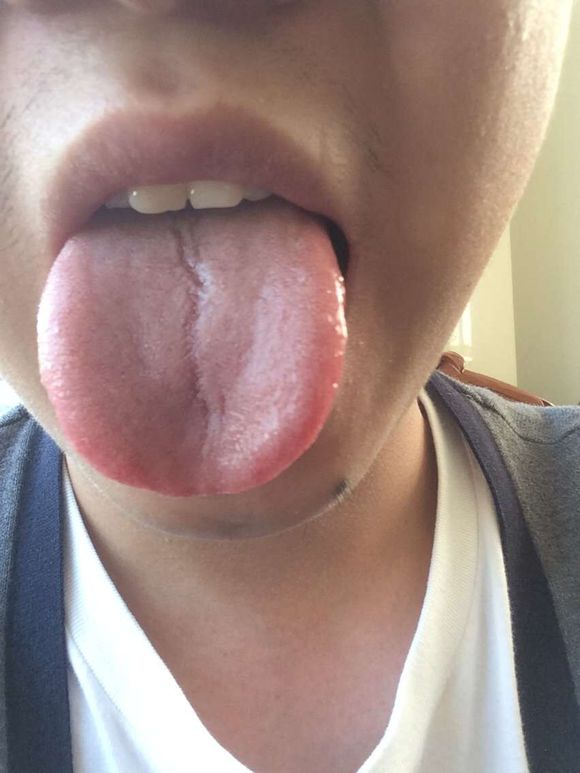baitaishe: (39, 200, 346, 494)
liewenshe: (164, 218, 228, 438)
pangdashe: (36, 200, 346, 494)
